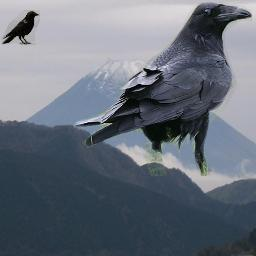Crow: (73, 2, 252, 176), (1, 10, 40, 46)
